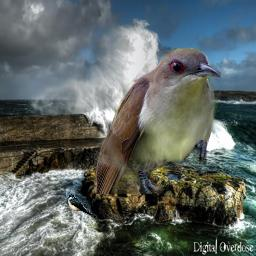Cuckoo: (95, 48, 221, 194)
Swallow: (68, 194, 92, 216)
